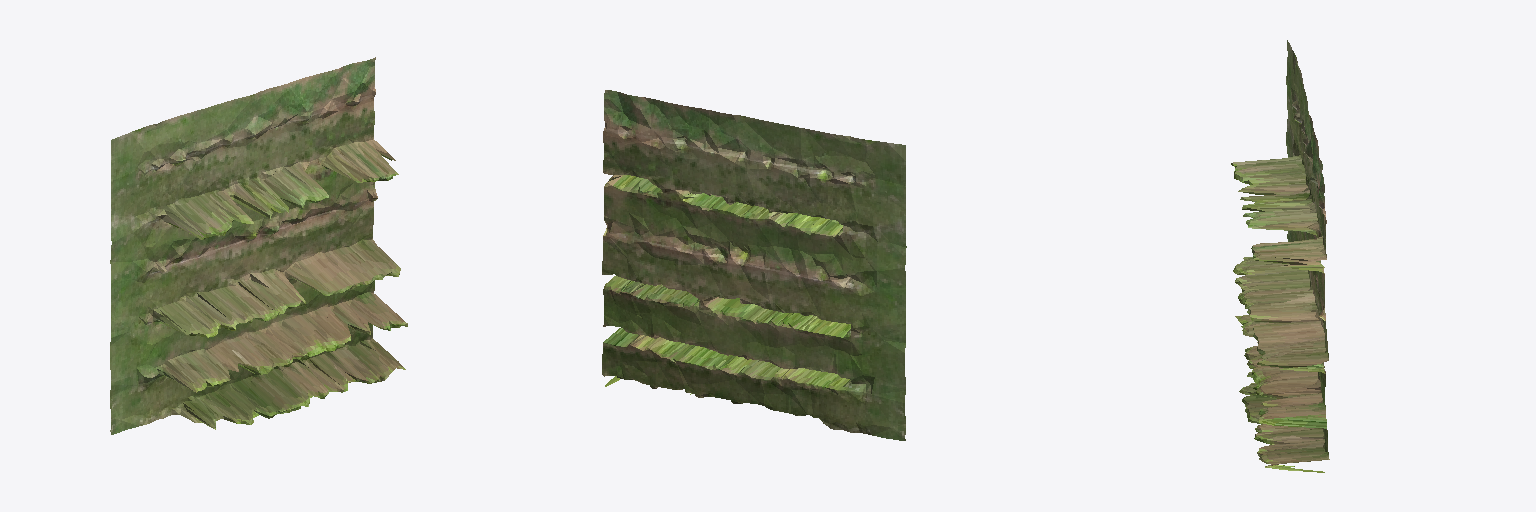
3 renders of one model, left to right at view 1: azimuth 30°, elevation 25°; view 2: azimuth 150°, elevation 25°; view 3: azimuth 270°, elevation 25°, orthographic.
Visible parts, largest first — view 1: grp1; view 2: grp1; view 3: grp1.
Part boxes in pixels (left/top/right/bottom): grp1: left=110, top=57, right=407, bottom=434; grp1: left=602, top=90, right=906, bottom=440; grp1: left=1231, top=40, right=1329, bottom=472.
Size of the model in its own units: 10 by 10 by 3.04.
Materials: 1 (1 with a texture image).